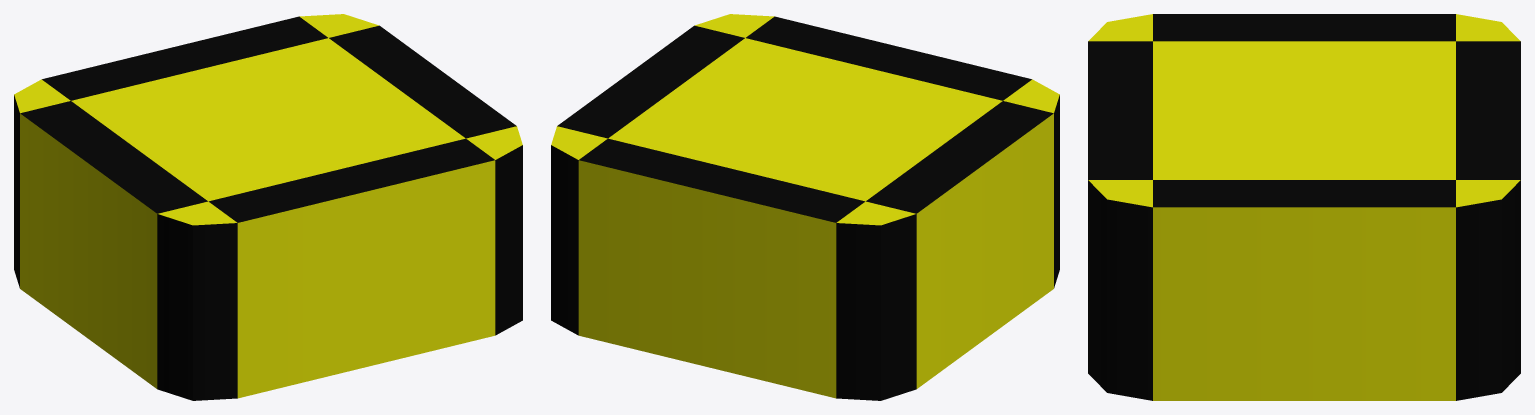
File: Knapp.fbx
3 renders of one model, left to right at view 1: azimuth 30°, elevation 25°; view 2: azimuth 150°, elevation 25°; view 3: azimuth 270°, elevation 25°, orthographic. The views are drawn at different scales.
Visible parts, largest first — view 1: Knapp; view 2: Knapp; view 3: Knapp.
Boxes of the visible parts, left/top/right/bottom form: Knapp: left=14, top=14, right=522, bottom=400; Knapp: left=551, top=14, right=1059, bottom=400; Knapp: left=1088, top=14, right=1520, bottom=400.
Bounding box in the file's own units: 4.27 × 1.99 × 4.04.
